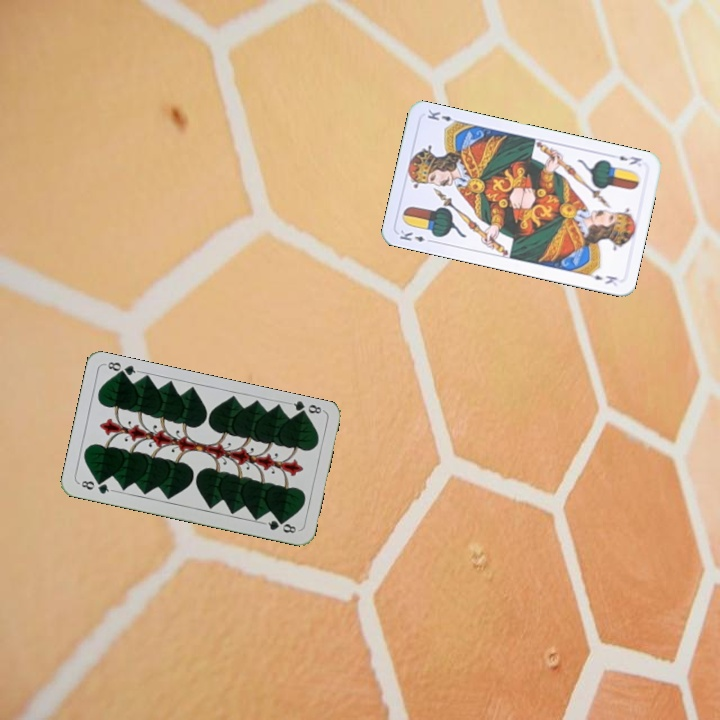EK: (396, 226, 436, 245), (615, 152, 644, 168)
G8: (285, 397, 326, 420), (75, 476, 115, 497)
